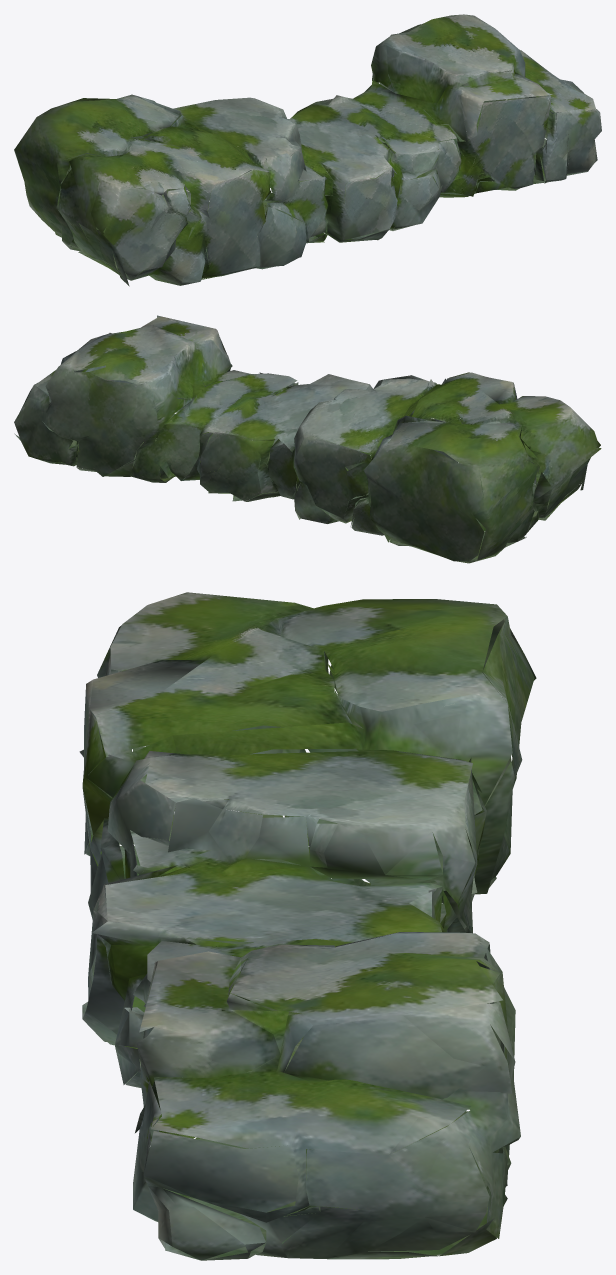
The model's file is model-sized.fbx.
The picture shows the model from 3 angles, top to bottom: view 1: azimuth 30°, elevation 25°; view 2: azimuth 150°, elevation 25°; view 3: azimuth 270°, elevation 25°; orthographic projection. The views are drawn at different scales.
Visible parts, largest first — view 1: ENV038_stone; view 2: ENV038_stone; view 3: ENV038_stone.
Part boxes in pixels (<box>): ENV038_stone: <box>14,14,601,286</box>; ENV038_stone: <box>14,315,601,563</box>; ENV038_stone: <box>79,592,536,1260</box>.
Size of the model in its own units: 140 by 32 by 55.
Materials: 1 (1 with a texture image).
